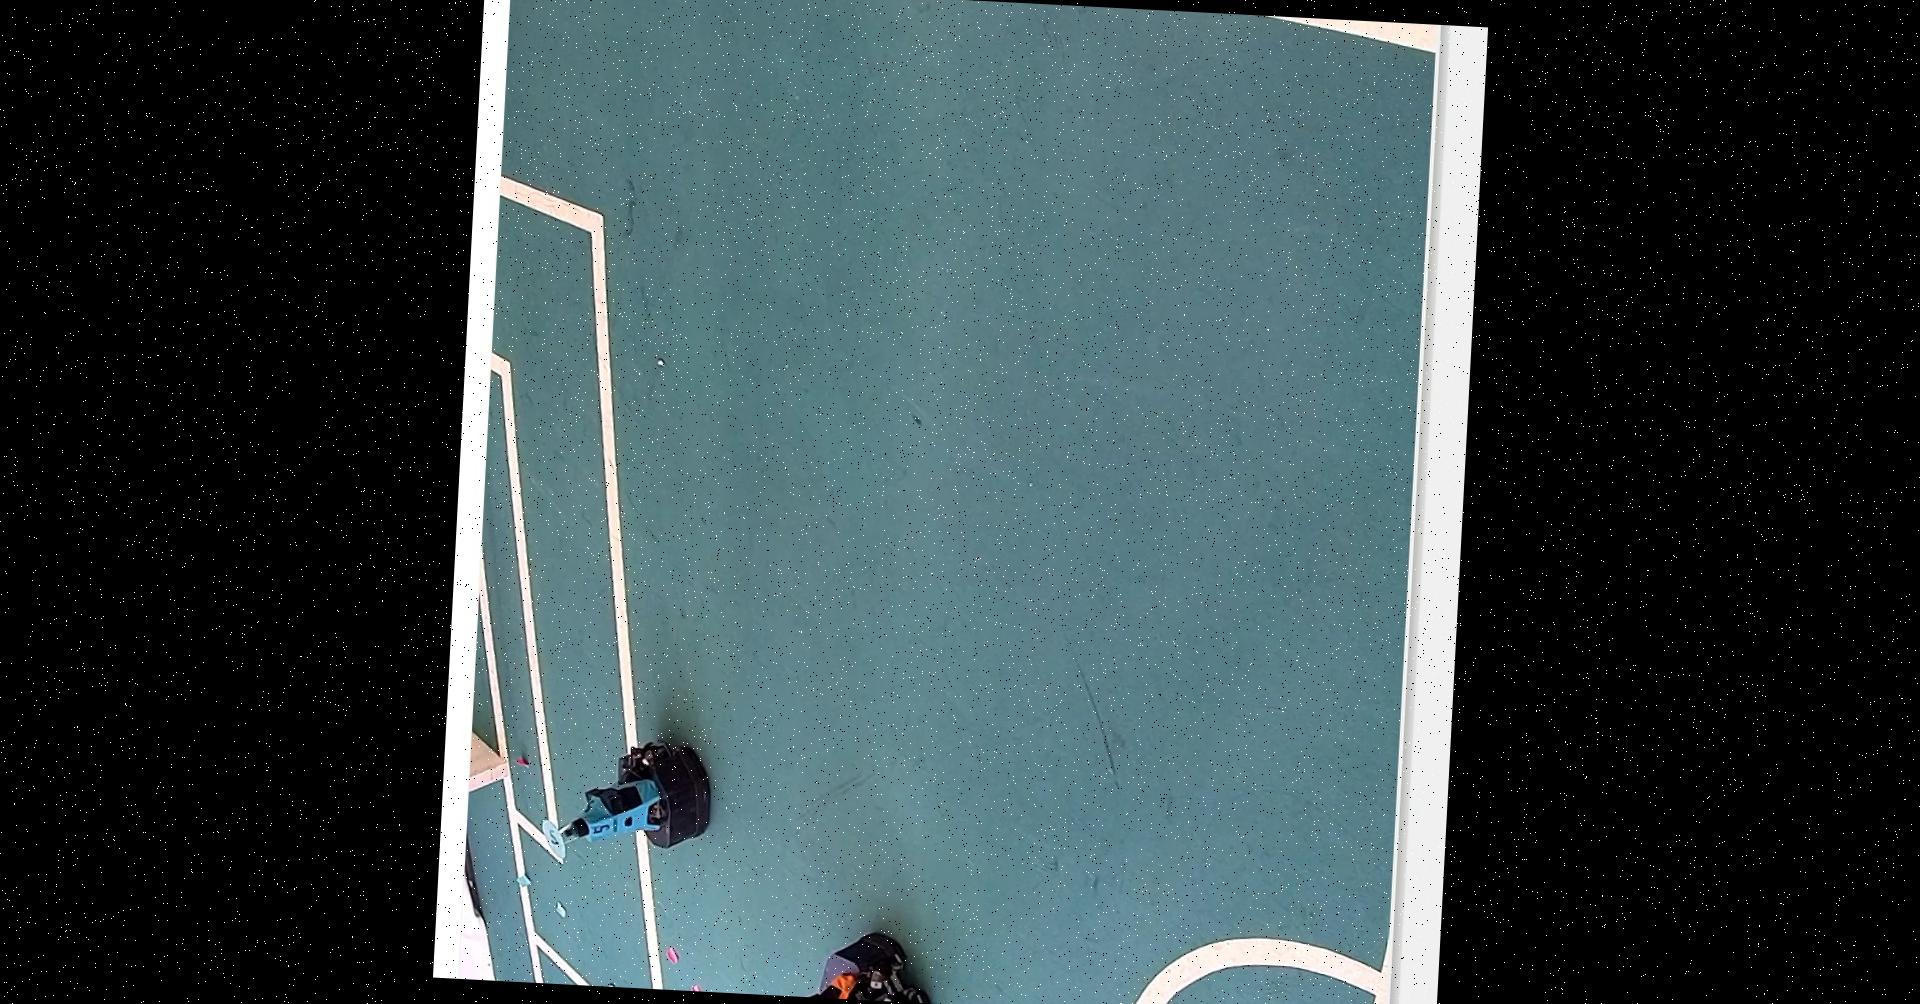Team_Blue: (530, 721, 718, 869)
Team_Red: (733, 919, 935, 1003)
